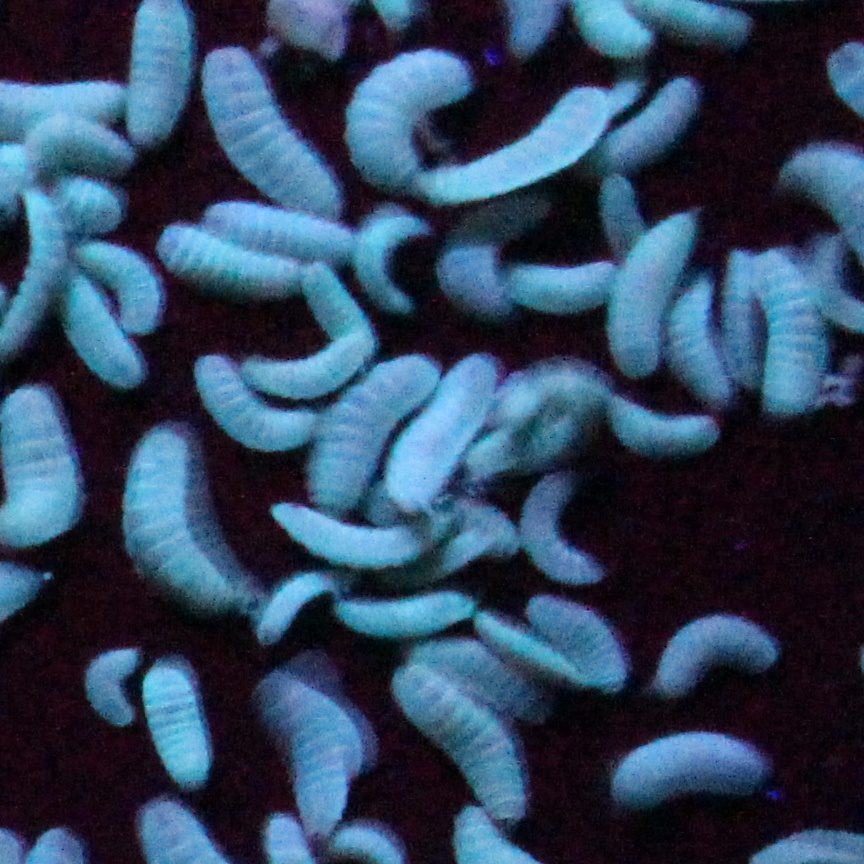larve: (421, 68, 619, 213), (104, 433, 261, 610), (336, 20, 489, 183), (389, 663, 546, 820), (199, 45, 341, 213), (294, 345, 436, 508), (599, 195, 696, 388), (499, 588, 629, 710), (736, 253, 836, 408), (404, 348, 486, 535), (611, 718, 769, 815), (656, 588, 784, 700), (264, 268, 381, 390), (266, 668, 354, 828), (279, 498, 459, 575), (324, 555, 489, 638), (194, 183, 359, 258), (186, 340, 306, 443), (591, 75, 701, 173), (164, 218, 316, 288), (516, 468, 599, 590), (604, 383, 721, 468), (671, 285, 744, 415), (501, 260, 629, 323), (244, 553, 334, 640), (154, 673, 221, 788), (446, 238, 534, 323), (74, 245, 166, 325), (361, 205, 434, 300)
